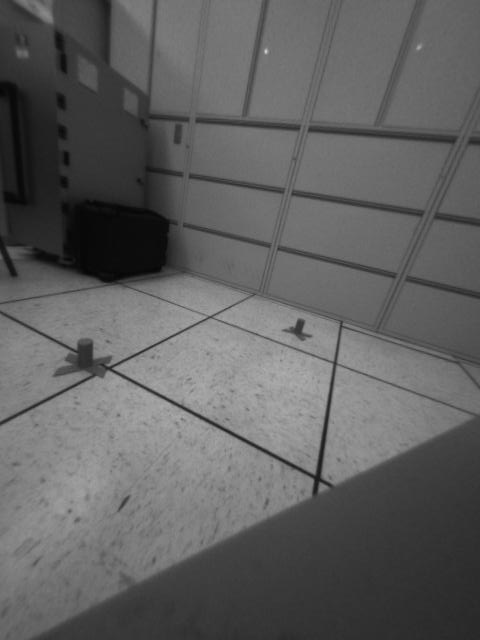X: (50, 337, 113, 380), (281, 316, 312, 343)
